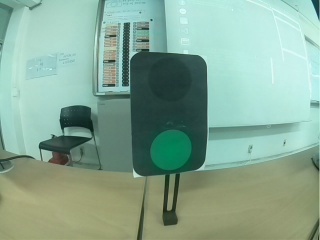green_light: (128, 49, 209, 175)
